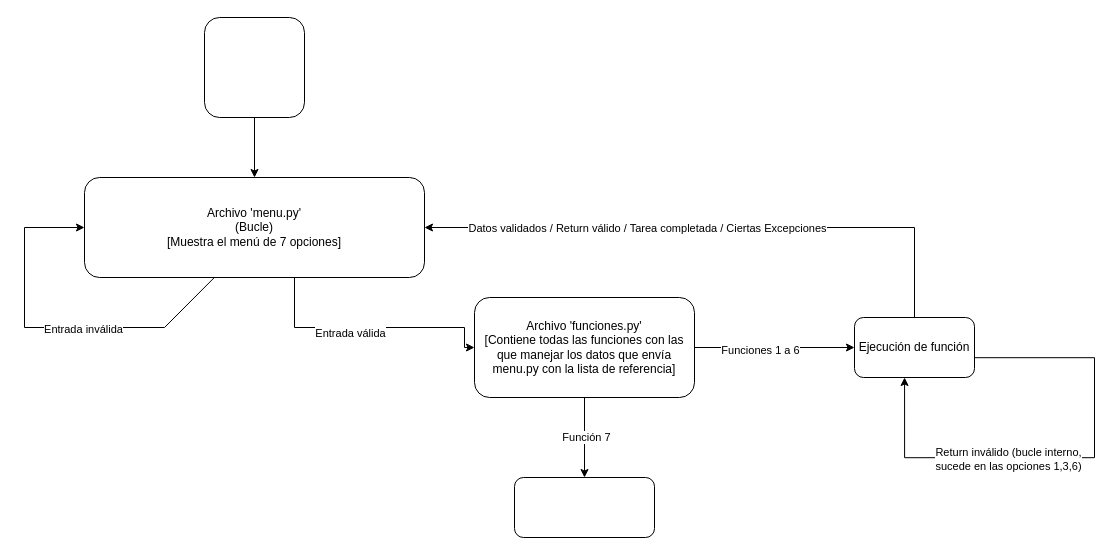
The diagram is 1120 pixels wide and 555 high, and some of its shapes have lost their labels. Here are the shapes that lost their labels. From the top down, the box of each, then its label:
(204, 16, 304, 118): Archivo 'main.py' [Utilizado para inicializar el programa]
(514, 476, 654, 538): Cierre del programa.
